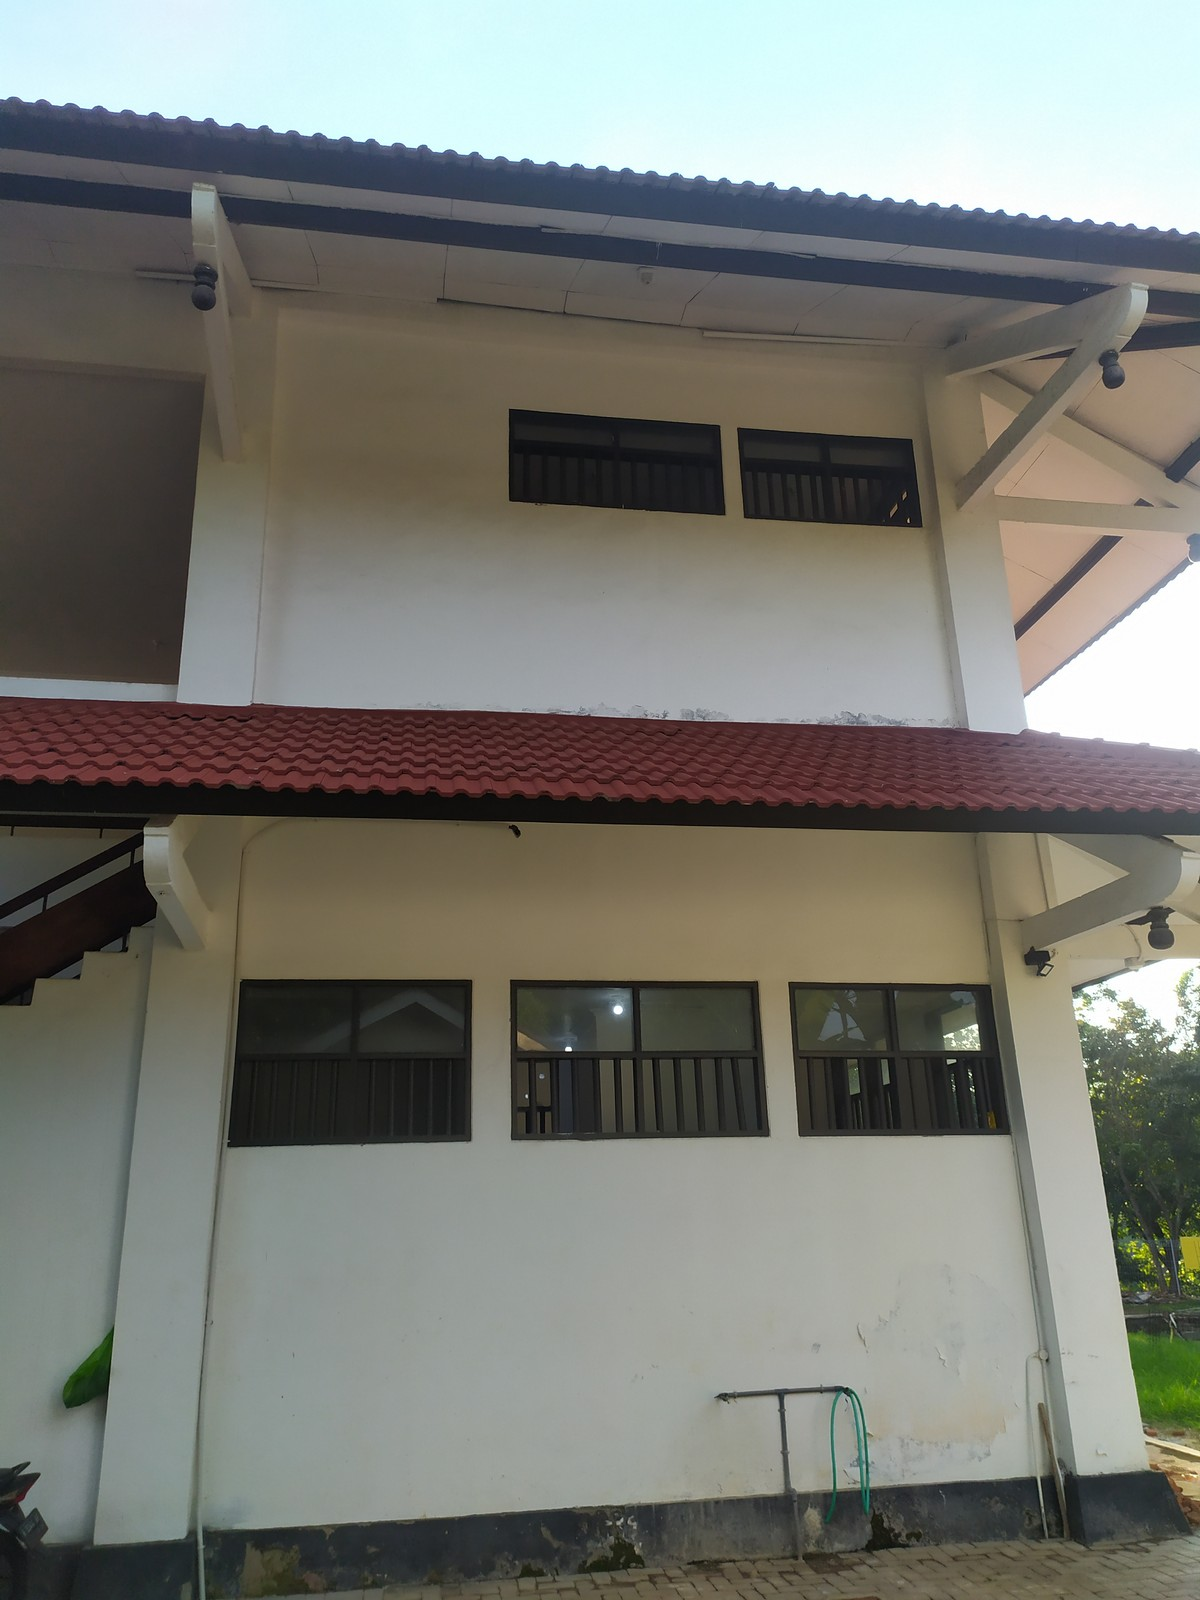concrete beam: (979, 486, 1186, 539)
concrete column: (971, 837, 1175, 1484), (87, 815, 246, 1558), (171, 289, 296, 706), (915, 350, 1039, 738)
